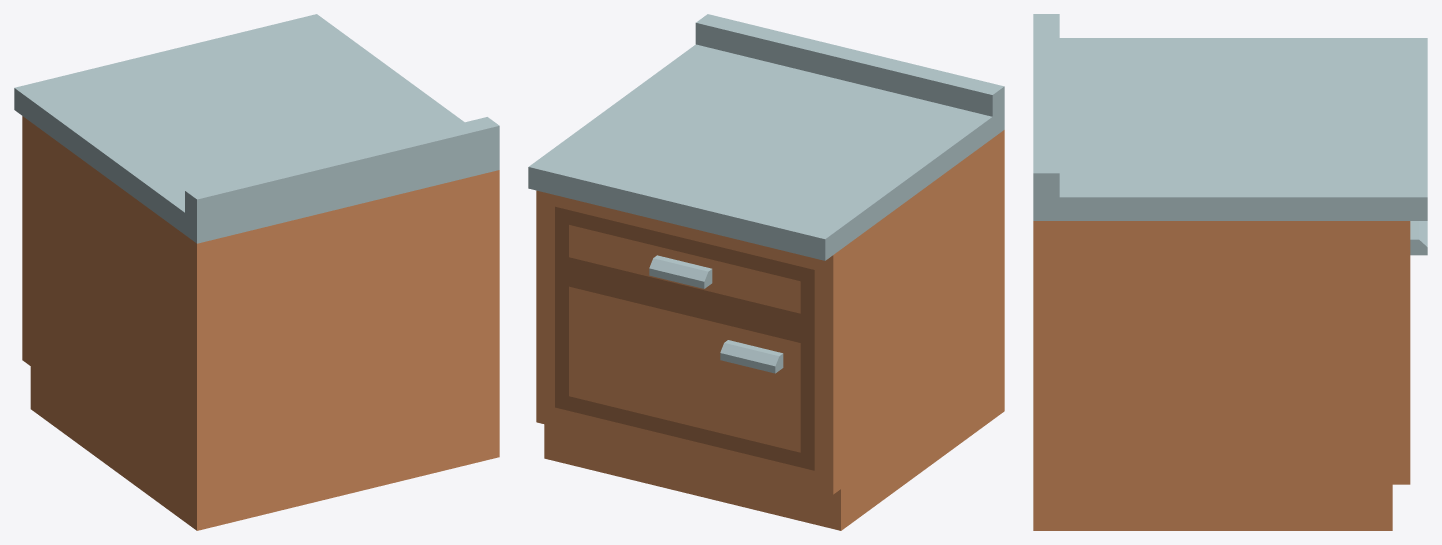
Rendered from kitchenCabinetDrawer.fbx.
The picture shows the model from 3 angles, left to right: view 1: azimuth 30°, elevation 25°; view 2: azimuth 150°, elevation 25°; view 3: azimuth 270°, elevation 25°; orthographic projection. The views are drawn at different scales.
Visible parts, largest first — view 1: kitchenCabinetDrawer; view 2: kitchenCabinetDrawer, door, drawer; view 3: kitchenCabinetDrawer, door.
Part boxes in pixels (x1=…): kitchenCabinetDrawer: x1=14, y1=14, x2=499, y2=530; kitchenCabinetDrawer: x1=528, y1=14, x2=1004, y2=530; door: x1=555, y1=268, x2=814, y2=470; drawer: x1=555, y1=206, x2=814, y2=331; kitchenCabinetDrawer: x1=1033, y1=14, x2=1427, y2=530; door: x1=1410, y1=221, x2=1427, y2=255.
Size of the model in its own units: 4.3 by 4.5 by 4.5.
